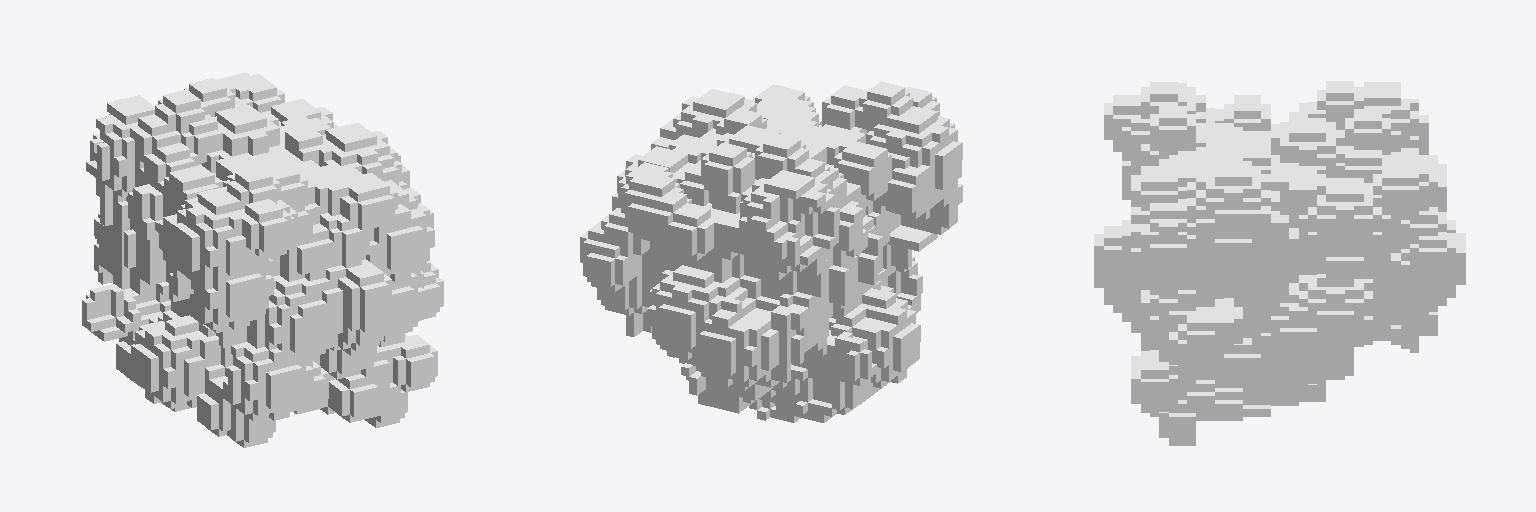
File: big_asteroid.vox.obj
3 renders of one model, left to right at view 1: azimuth 30°, elevation 25°; view 2: azimuth 150°, elevation 25°; view 3: azimuth 270°, elevation 25°, orthographic.
Visible parts, largest first — view 1: object 1; view 2: object 1; view 3: object 1.
Part boxes in pixels (x1,y1,x2,y2): object 1: (82,72,443,447); object 1: (580,81,962,422); object 1: (1094,81,1465,445).
Size of the model in its own units: 3.4 by 3.5 by 4.